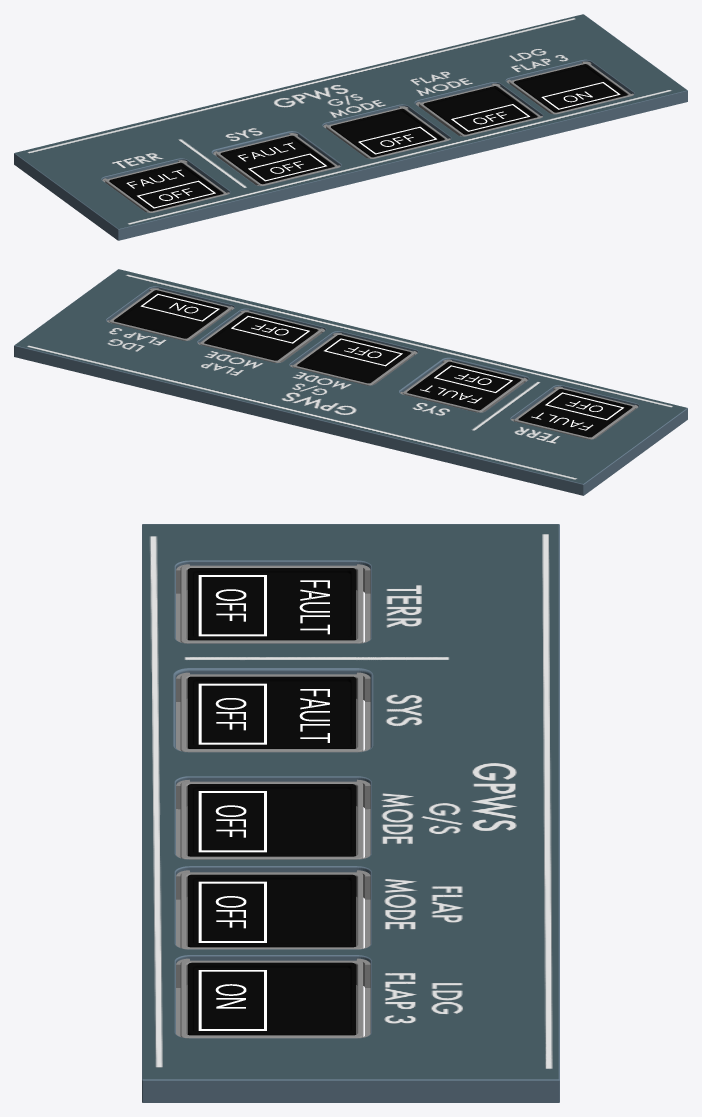
Rendered from gpws_panel.glb.
3 views of the same model, one above another, from view 1: azimuth 30°, elevation 25°; view 2: azimuth 150°, elevation 25°; view 3: azimuth 270°, elevation 25° (orthographic). The views are drawn at different scales.
Visible parts, largest first — view 1: Plane, Cube.013, Cube.023, Cube.010, Cube.007, Cube.030, Cube.008, Cube.021, Cube.006, Cube.022, Cube.009, Cube.012 (+4 smaller); view 2: Plane, Cube.010, Cube.013, Cube.023, Cube.030, Cube.007, Cube.008, Cube.021, Cube.024, Cube.011, Cube.035, Cube.006 (+4 smaller); view 3: Plane, Cube.023, Cube.010, Cube.013, Cube.007, Cube.030, Cube.012, Cube.022, Cube.006, Cube.035, Cube.011, Cube.024 (+9 smaller).
Part boxes in pixels (box(x1,y1,x2,y2)): Plane: box(14, 14, 687, 240); Cube.013: box(428, 88, 532, 132); Cube.023: box(518, 66, 622, 110); Cube.010: box(335, 111, 439, 154); Cube.007: box(225, 138, 329, 181); Cube.030: box(114, 165, 218, 208); Cube.008: box(216, 134, 338, 185); Cube.021: box(419, 84, 541, 136); Cube.006: box(220, 135, 334, 184); Cube.022: box(514, 64, 627, 112); Cube.009: box(331, 108, 444, 157); Cube.012: box(423, 86, 537, 134); Plane: box(14, 269, 687, 495); Cube.010: box(301, 337, 405, 381); Cube.013: box(208, 315, 312, 358); Cube.023: box(118, 293, 222, 336); Cube.030: box(523, 391, 627, 435); Cube.007: box(412, 364, 516, 407); Cube.008: box(402, 360, 525, 412); Cube.021: box(199, 310, 322, 362); Cube.024: box(109, 288, 231, 340); Cube.011: box(292, 333, 415, 385); Cube.035: box(514, 387, 636, 439); Cube.006: box(407, 361, 520, 410); Plane: box(142, 524, 559, 1102); Cube.023: box(193, 967, 350, 1031); Cube.010: box(193, 788, 350, 852); Cube.013: box(193, 879, 350, 943); Cube.007: box(193, 681, 350, 745); Cube.030: box(193, 572, 350, 636); Cube.012: box(187, 874, 356, 947); Cube.022: box(187, 962, 356, 1035); Cube.006: box(187, 676, 356, 748); Cube.035: box(180, 565, 363, 643); Cube.011: box(180, 781, 363, 859); Cube.024: box(180, 960, 363, 1038).
Bounding box in the file's own units: 2.37 × 0.0589 × 0.7541.
Materials: 5 (1 with a texture image).
